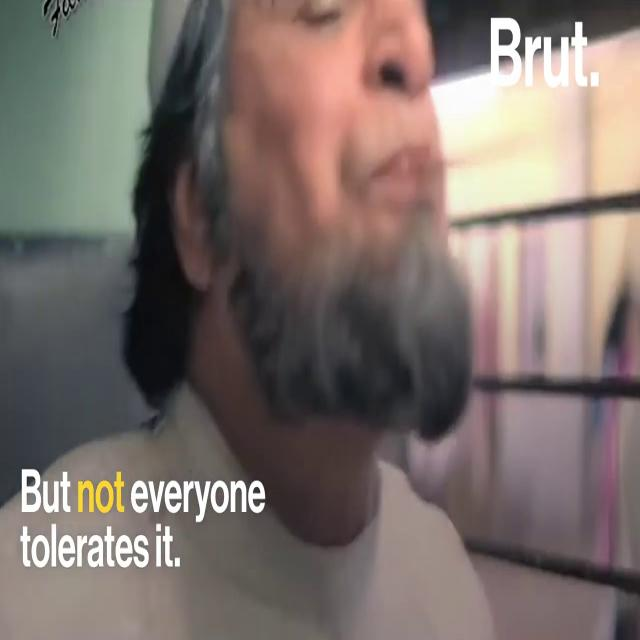spit: (383, 59, 627, 256)
